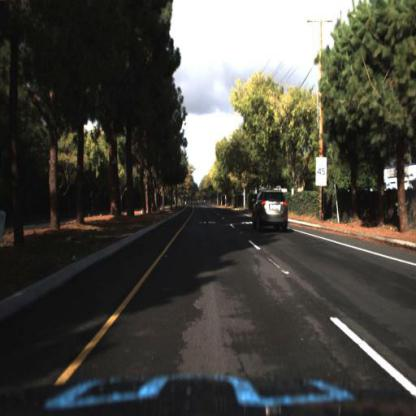car: (250, 189, 292, 235)
